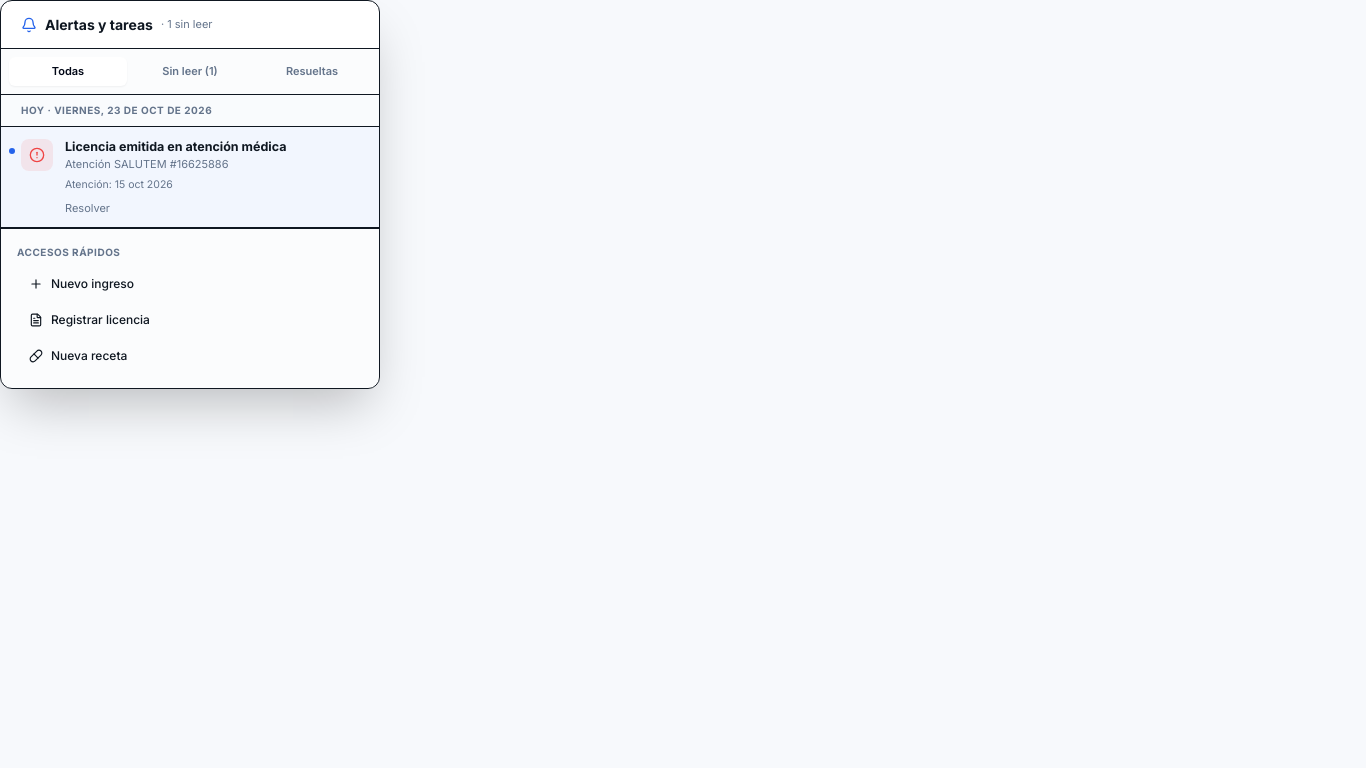
it: AlertsPanel: gestionar la alerta desde el diálogo › muestra el paciente y ofrece registrar la licencia con lo leído de SALUTEM
Click the text "Licencia emitida en atención médica": x=176, y=146 [65,138,286,154]
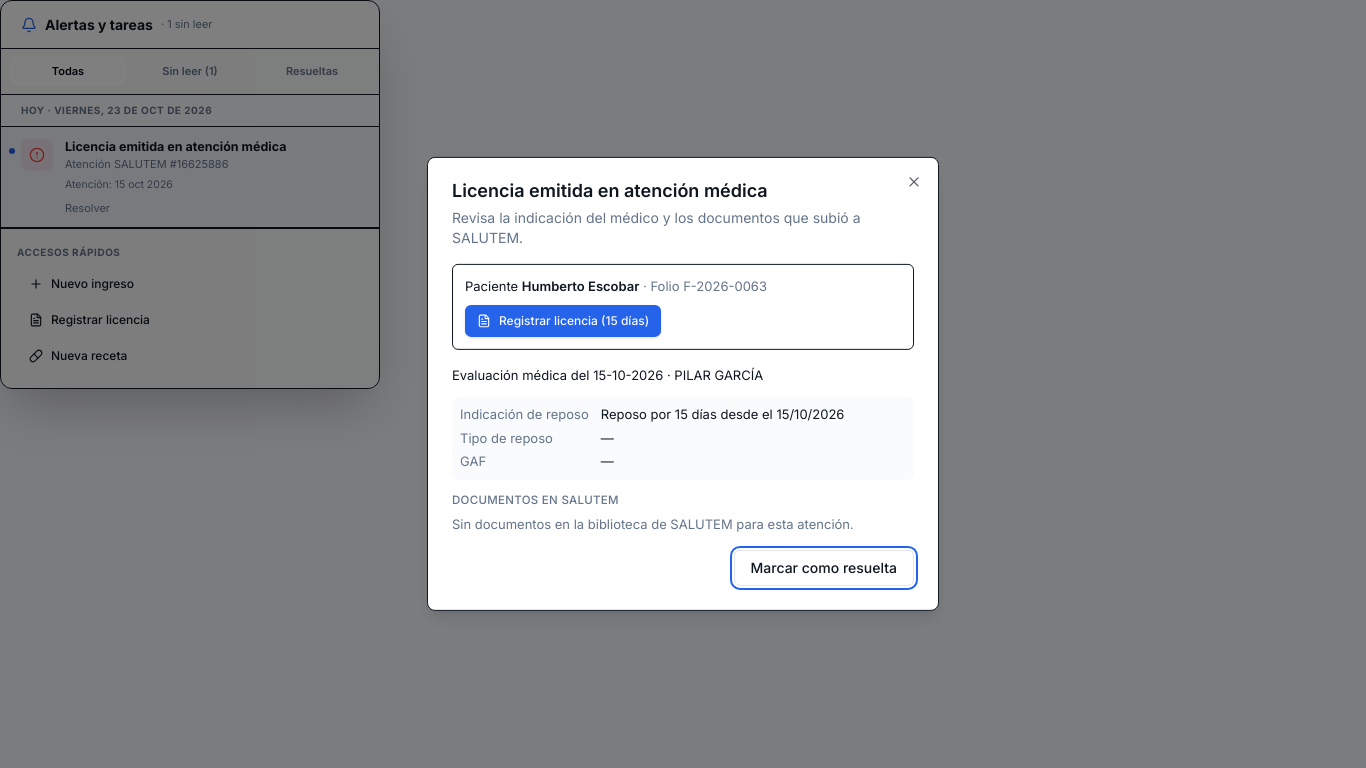
Expected: the text "Humberto Escobar" is shown, [522,278,639,294]
Expected: the number of buttons "Registrar licencia (15 días)" is 1
Expected: the button "Registrar licencia (15 días)" is shown
Click the button "Registrar licencia (15 días)": x=563, y=320 [465,304,661,336]
(page scrolled)
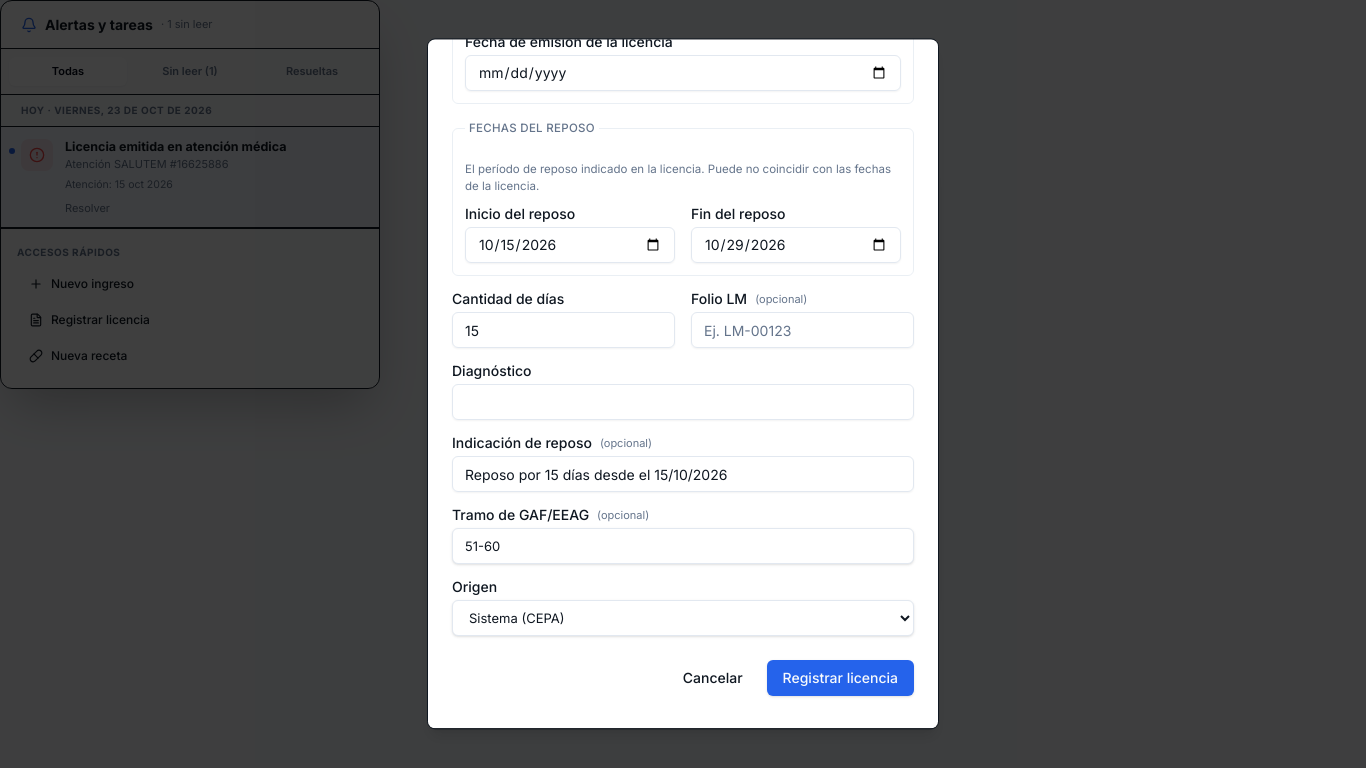
Expected: the dropdown labelled "Tramo de GAF/EEAG (opcional)" shows "51-60", [452,529,914,565]
Expected: the field labelled "Indicación de reposo (opcional)" holds "Reposo por 15 días desde el 15/10/2026", [452,457,914,493]
